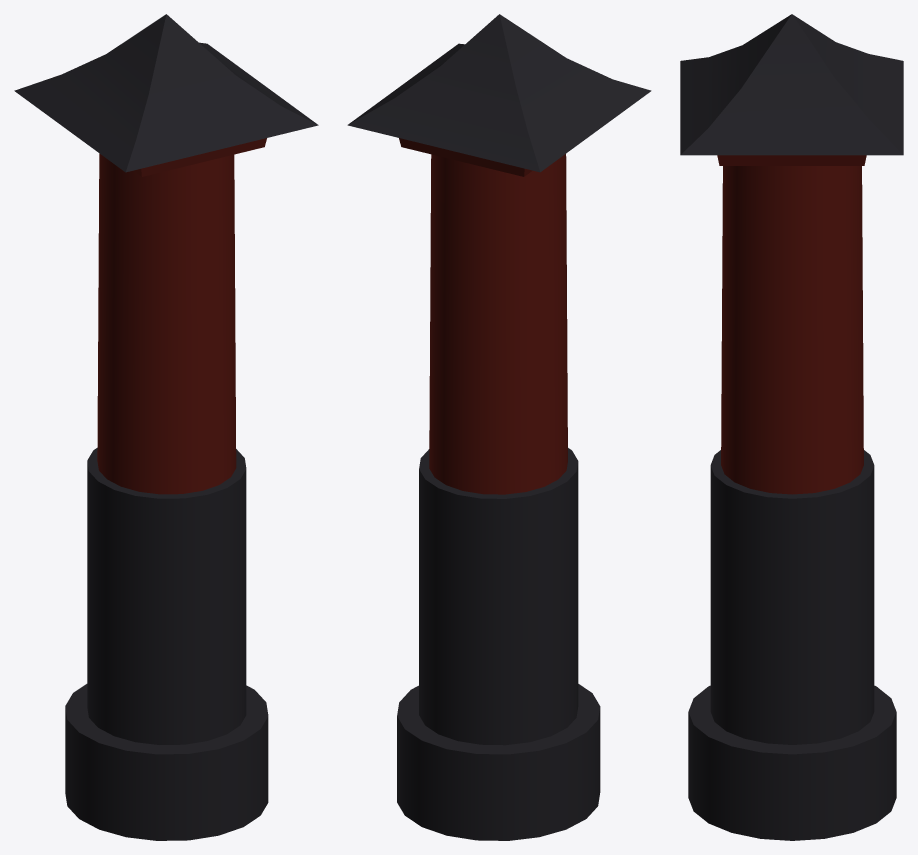
File: single_column.fbx
The picture shows the model from 3 angles, left to right: view 1: azimuth 30°, elevation 25°; view 2: azimuth 150°, elevation 25°; view 3: azimuth 270°, elevation 25°; orthographic projection.
Visible parts, largest first — view 1: single_column; view 2: single_column; view 3: single_column.
Boxes of the visible parts, box(x1,y1,x2,y2) form: single_column: box(14, 14, 318, 840); single_column: box(347, 14, 651, 840); single_column: box(680, 14, 903, 840).
Bounding box in the file's own units: 130 × 502 × 130.
